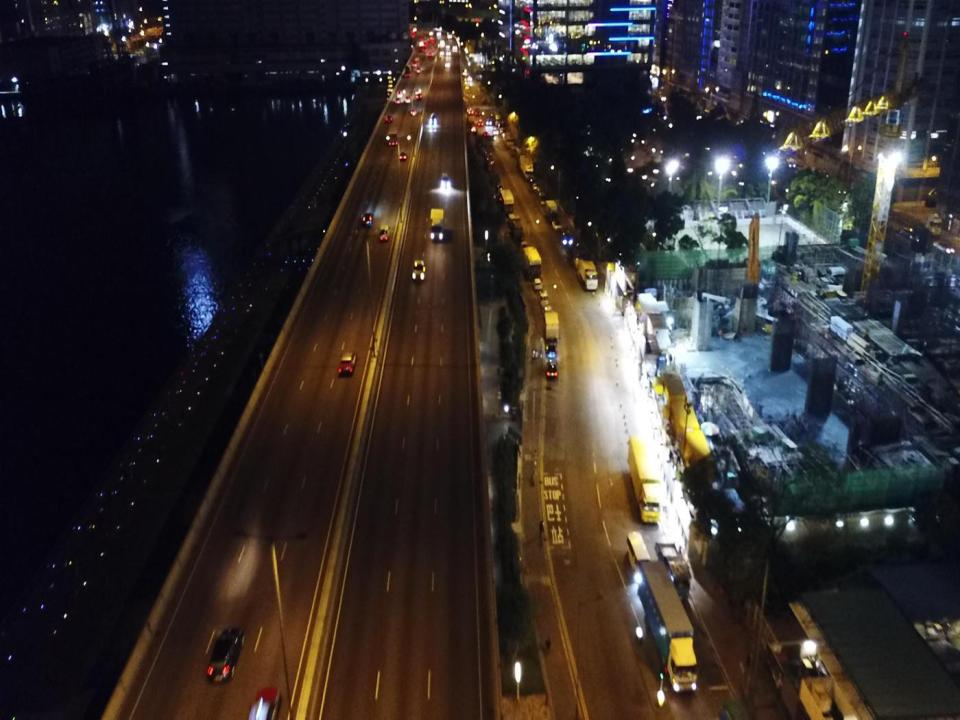car: (207, 628, 245, 682), (244, 687, 281, 719), (338, 350, 358, 376), (411, 260, 424, 280), (547, 358, 558, 378), (546, 339, 557, 358), (379, 225, 390, 242), (362, 212, 374, 226), (561, 231, 572, 246), (441, 173, 450, 189), (552, 220, 561, 232), (428, 112, 436, 124), (534, 278, 542, 289), (399, 152, 407, 160), (385, 114, 392, 122), (474, 107, 480, 115), (397, 89, 402, 97), (445, 62, 451, 68), (405, 96, 410, 103), (447, 31, 452, 38), (493, 127, 498, 134), (411, 110, 417, 115), (395, 98, 401, 103), (440, 39, 445, 45), (486, 119, 491, 125), (478, 120, 483, 126), (483, 131, 489, 136), (439, 51, 444, 56), (468, 109, 473, 114), (446, 52, 452, 56), (416, 69, 421, 73), (452, 46, 457, 50), (412, 62, 417, 66), (446, 45, 450, 48)
truck: (638, 562, 698, 692), (627, 435, 660, 524), (655, 542, 690, 602), (521, 246, 543, 279), (577, 258, 598, 289), (429, 208, 444, 242), (544, 310, 559, 342), (519, 154, 534, 180), (500, 190, 513, 218), (510, 216, 523, 241), (546, 199, 557, 222), (388, 129, 399, 146), (415, 85, 422, 100), (404, 63, 410, 77)
van: (626, 530, 650, 576), (537, 290, 548, 305)
